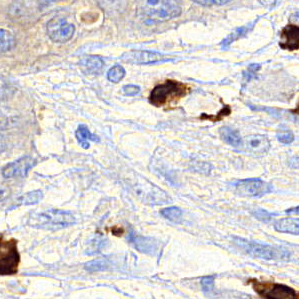Lymphocyte: (150, 78, 185, 107)
